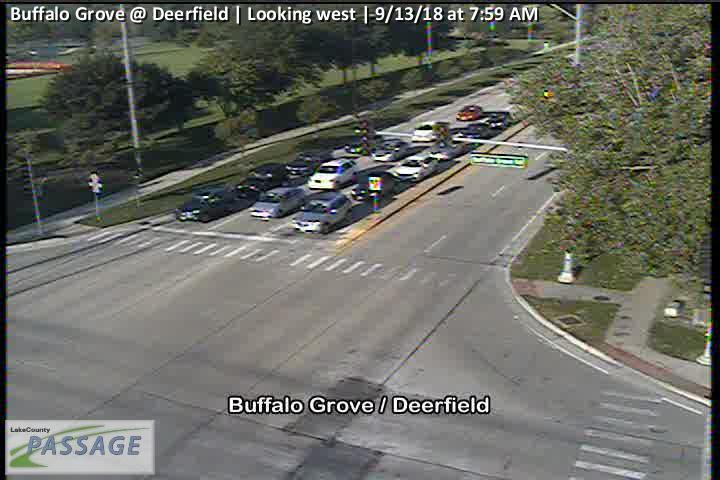Sedan: (174, 183, 255, 223), (293, 190, 353, 235), (249, 186, 305, 224), (307, 157, 360, 191), (389, 154, 437, 185), (244, 161, 285, 191), (341, 133, 385, 156), (287, 155, 320, 183), (370, 138, 407, 162), (411, 120, 448, 143), (427, 143, 465, 157), (456, 124, 489, 139), (456, 106, 483, 121), (486, 112, 510, 128)
